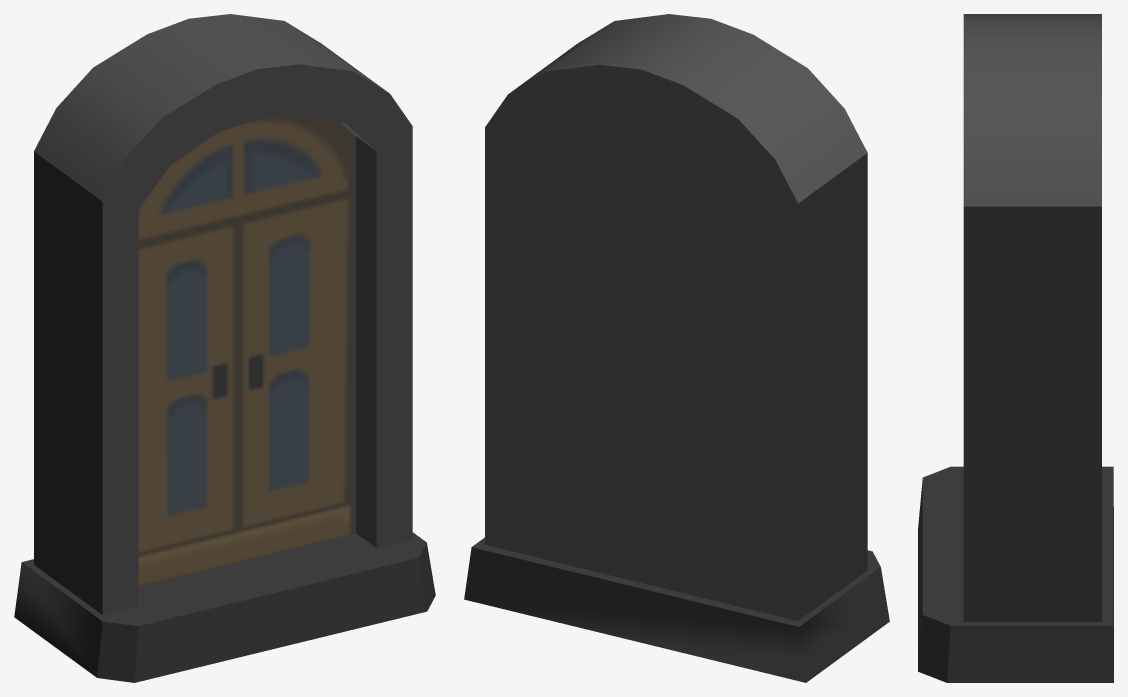
The model's file is Door_D03.fbx.
The picture shows the model from 3 angles, left to right: view 1: azimuth 30°, elevation 25°; view 2: azimuth 150°, elevation 25°; view 3: azimuth 270°, elevation 25°; orthographic projection.
Visible parts, largest first — view 1: Door_D03; view 2: Door_D03; view 3: Door_D03.
Boxes of the visible parts, <box> form: Door_D03: <box>14,14,435,682</box>; Door_D03: <box>464,14,889,682</box>; Door_D03: <box>918,14,1113,682</box>.
Size of the model in its own units: 227 by 359 by 113.
